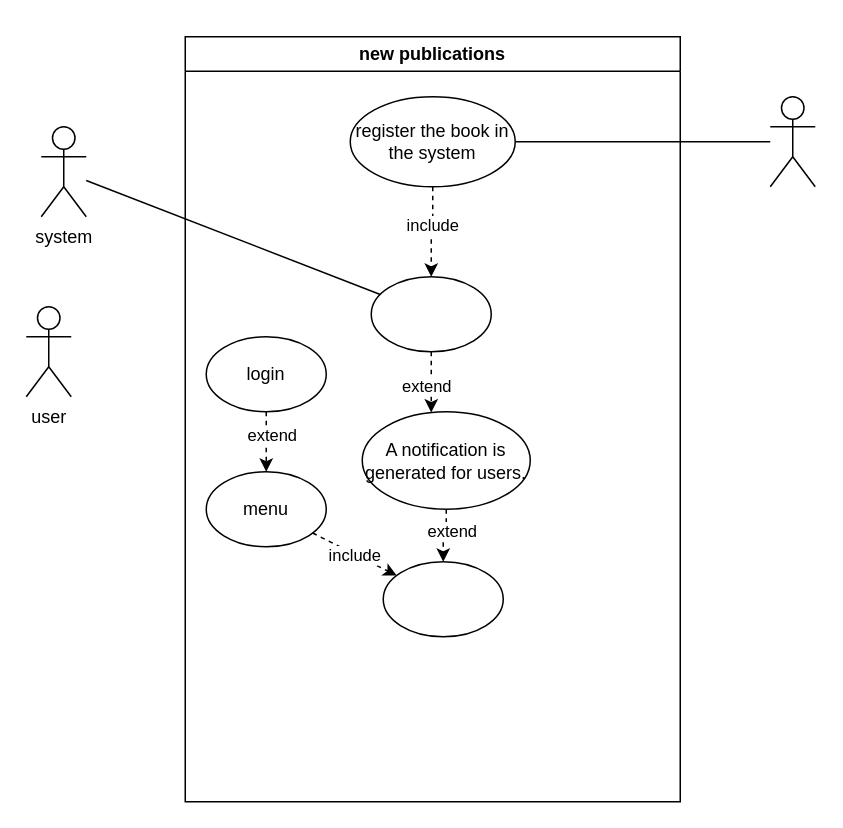
Some shapes in this 843 by 828 pixel diagram are drawn without their labels. The centre of each missing label's shape, as x and y in pixels:
admin: (792,141)
is stored in the catalog: (430,313)
View notification: (442,598)
